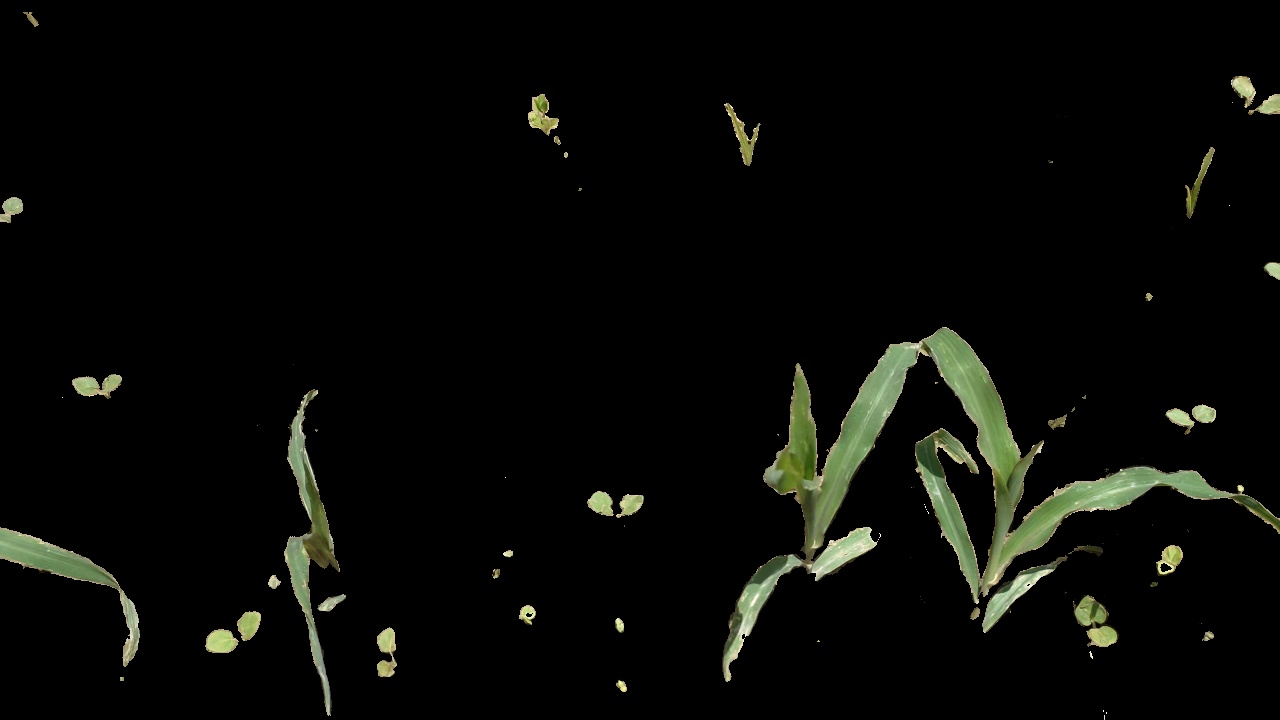crop: (922, 313, 1273, 623), (714, 329, 920, 685), (268, 387, 355, 717)
weed: (706, 82, 776, 171), (508, 72, 573, 142), (1060, 594, 1131, 658), (1178, 133, 1218, 233), (578, 482, 663, 526), (199, 611, 269, 659), (59, 369, 131, 403), (1234, 74, 1280, 127), (1164, 398, 1221, 436), (370, 626, 406, 681), (514, 588, 541, 636), (1140, 545, 1189, 568)
